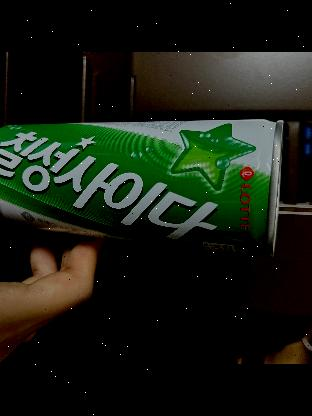Can: (0, 120, 284, 260)
